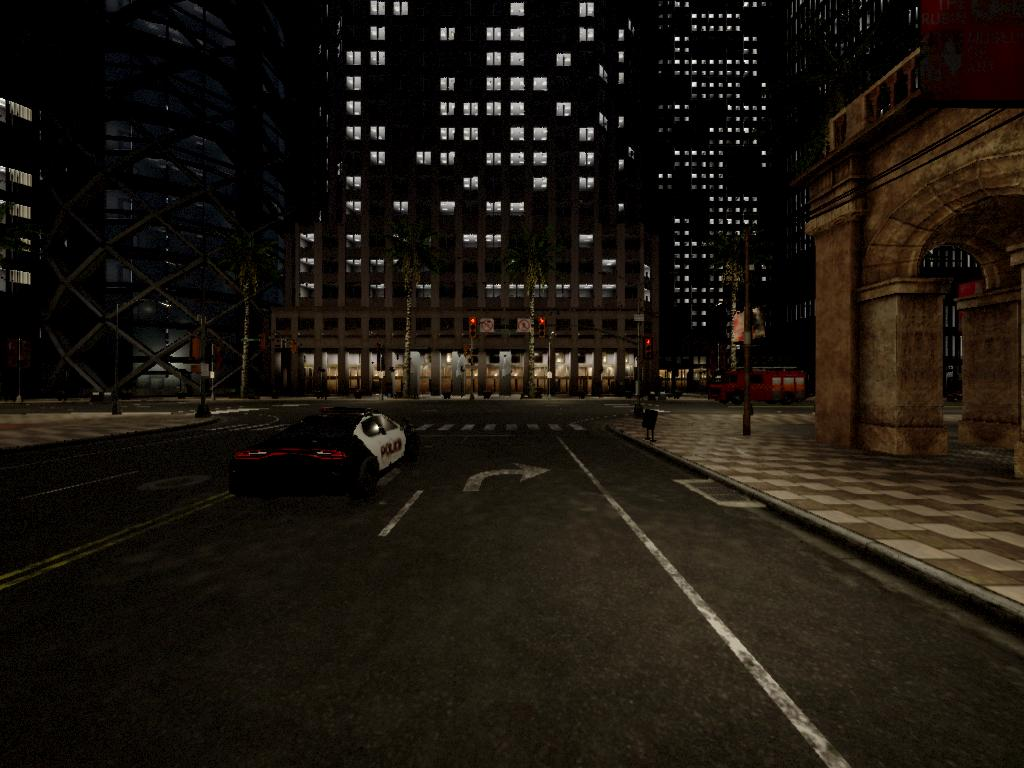traffic_light: (645, 341, 656, 362), (537, 318, 547, 341), (468, 318, 479, 336)
